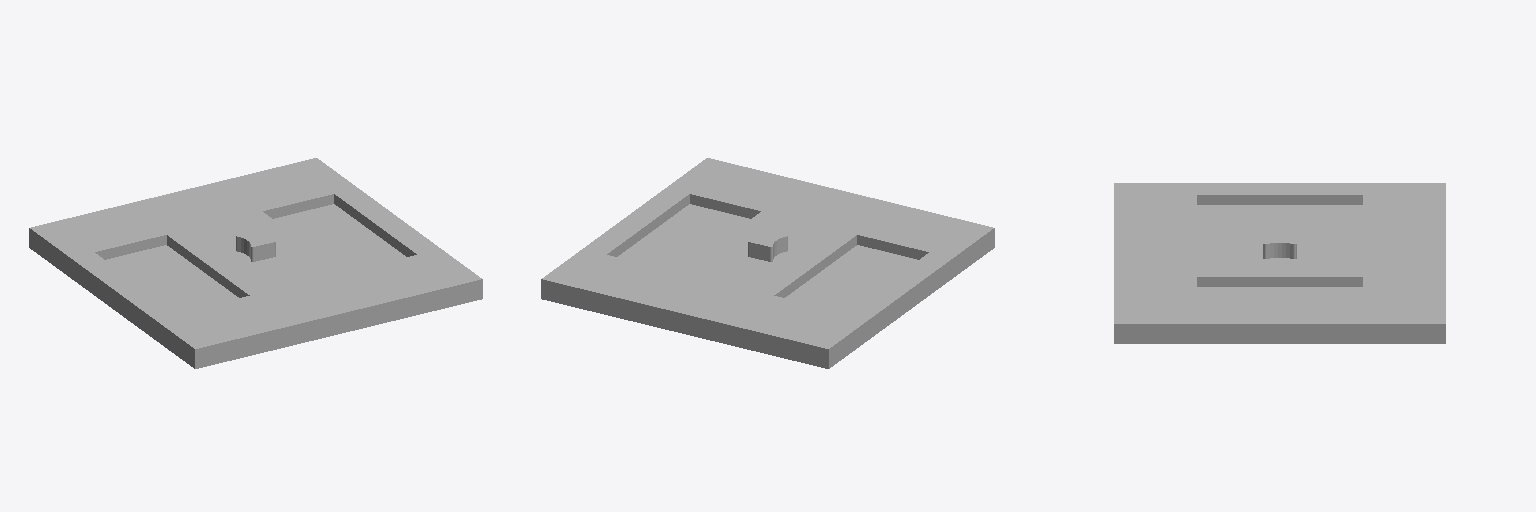
Rendered from carry_frame.obj.
3 renders of one model, left to right at view 1: azimuth 30°, elevation 25°; view 2: azimuth 150°, elevation 25°; view 3: azimuth 270°, elevation 25°, orthographic.
Bounding box in the file's own units: 0.3 × 0.035 × 0.3.